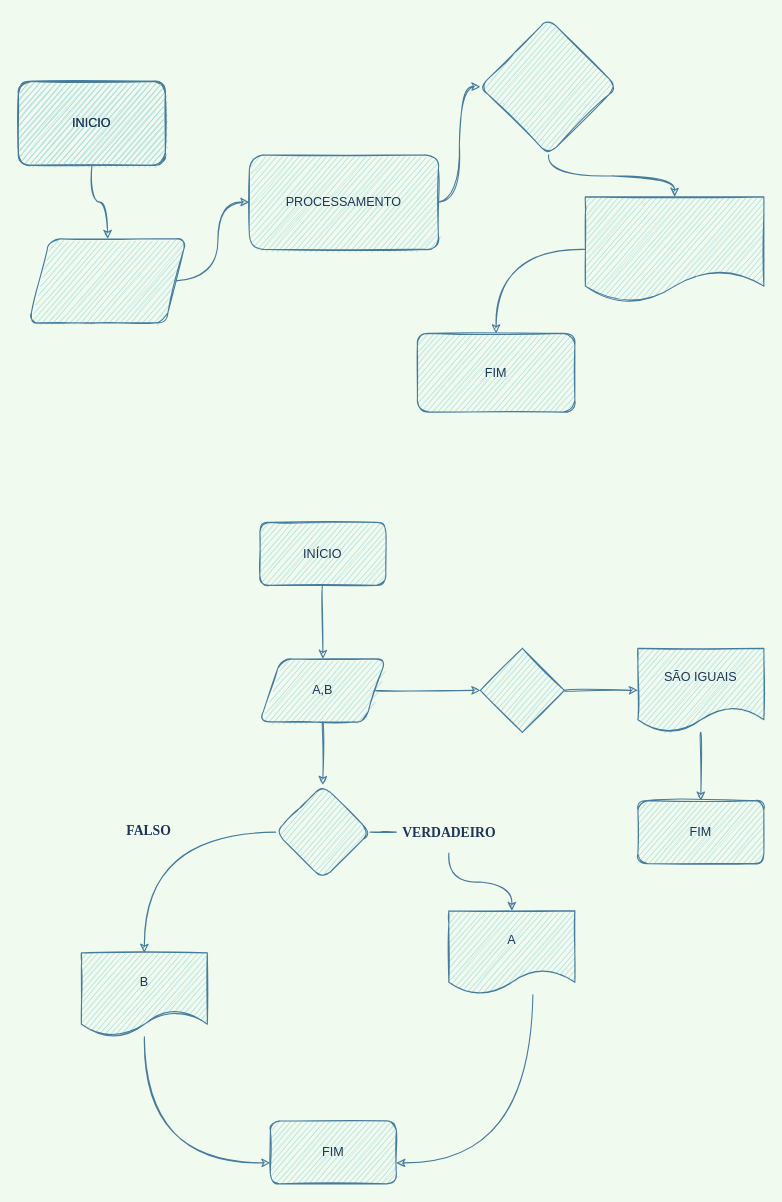
The diagram is 782 pixels wide and 1202 high, and some of its shapes have lost their labels. The shapes that lost their labels are listed below. From the top down, each one's centre as x and y in pixels, then its label:
At (x=548, y=86): "DECISÃO".
At (x=674, y=249): "SAÍDA".
At (x=107, y=280): "ENTRADA".
At (x=521, y=689): "A=B".
At (x=322, y=831): "A>B".
